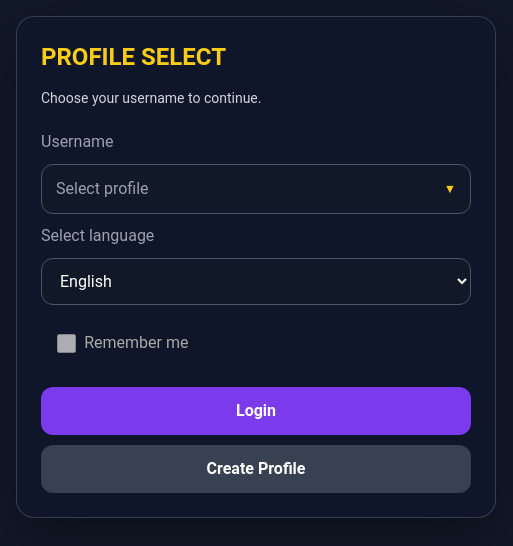
Test: ProfileSelector › shows create profile form when create profile action is selected
Click the button "Create Profile" at x=256, y=469, box [41, 445, 471, 493]
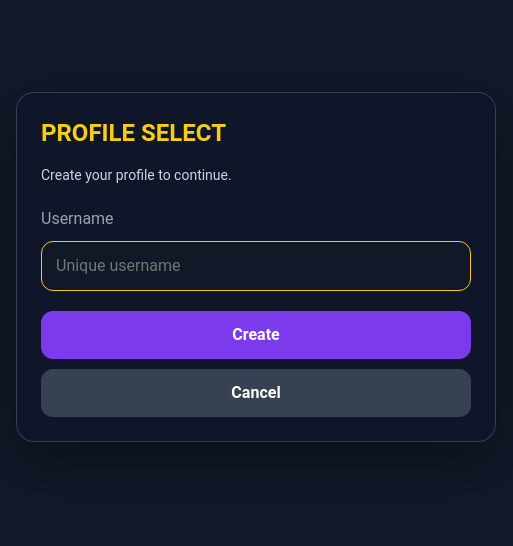
Now the button "Create" is shown, box [41, 311, 471, 359]
